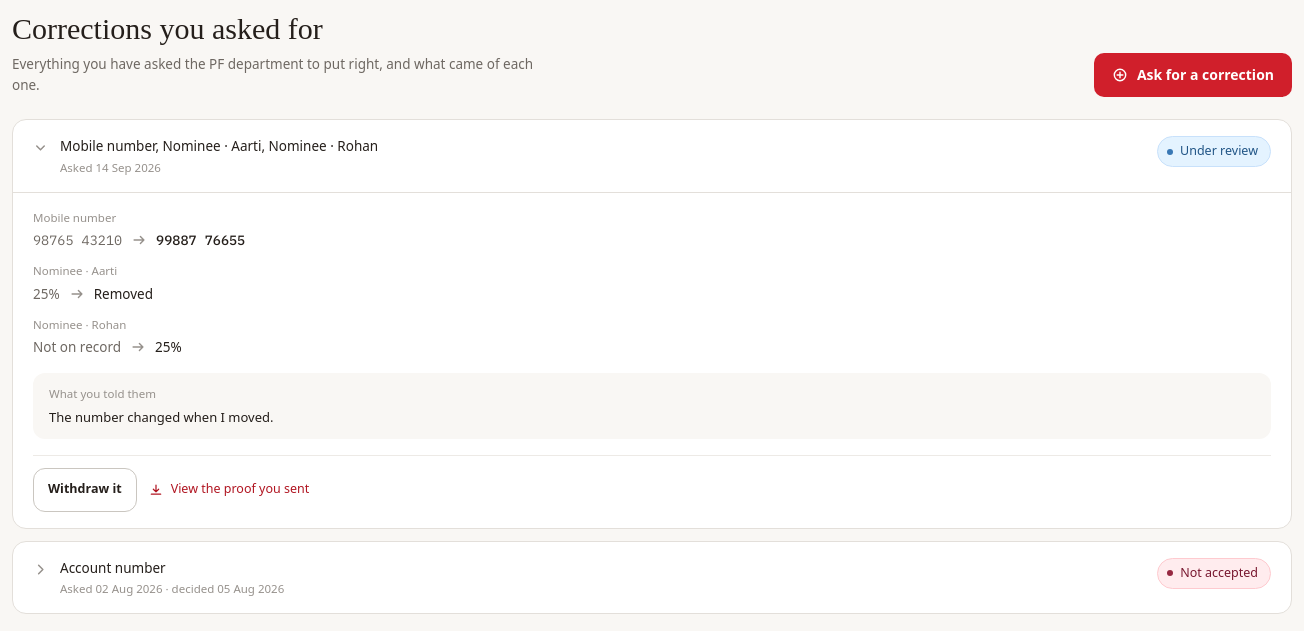
Scenario: ChangeRequestHistoryView › replaces the row with what the API answers when it is withdrawn
Click the button "Withdraw it" at (85, 490), box [33, 468, 137, 512]
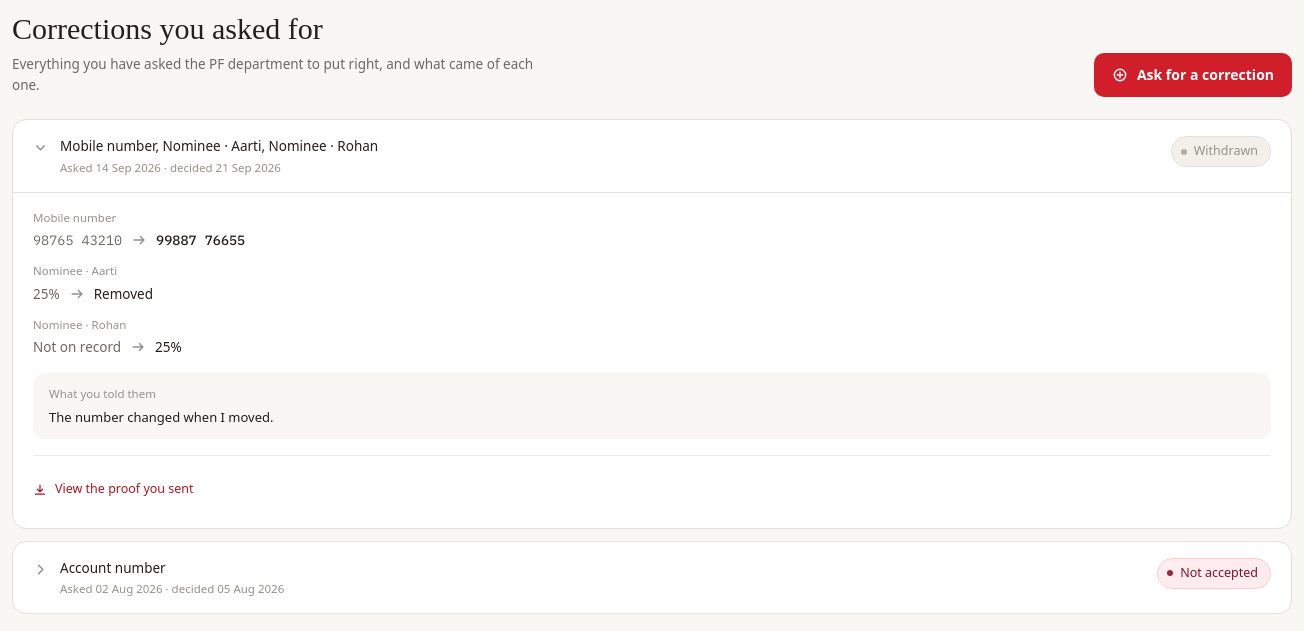
Expected: the text "Withdrawn" is shown, [1171, 136, 1271, 167]
Expected: the text "Withdraw it" is gone
